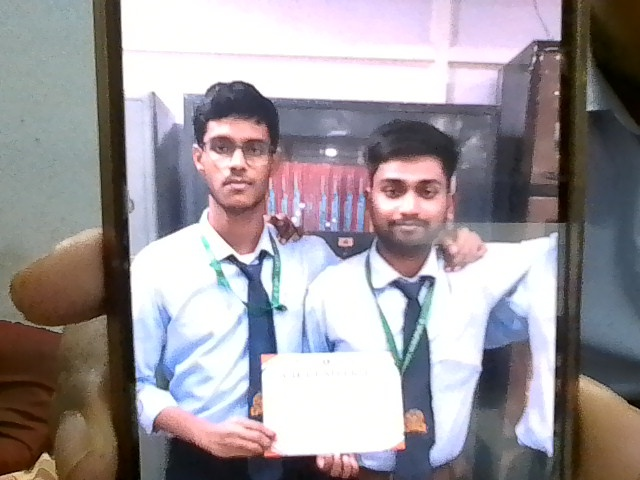real: (357, 108, 465, 261)
